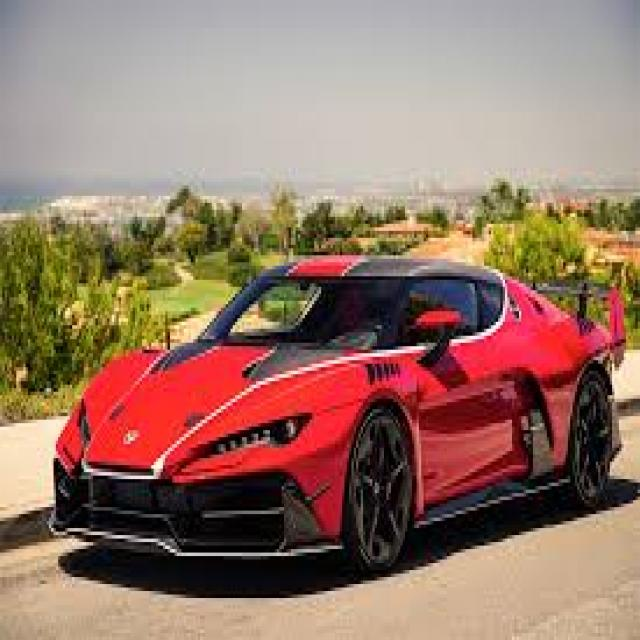Car: (42, 241, 632, 575)
